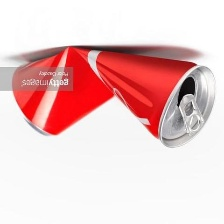can: (7, 42, 218, 150)
